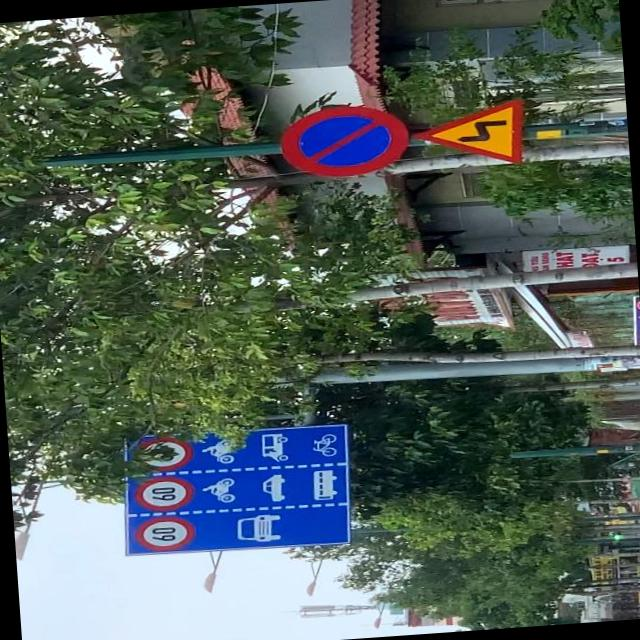P-131a: (274, 101, 408, 179)
W-202a: (412, 94, 530, 174)
